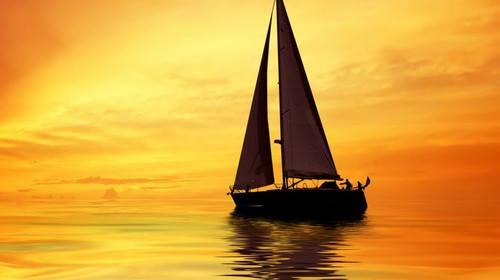fanchuan: (225, 1, 374, 221)
